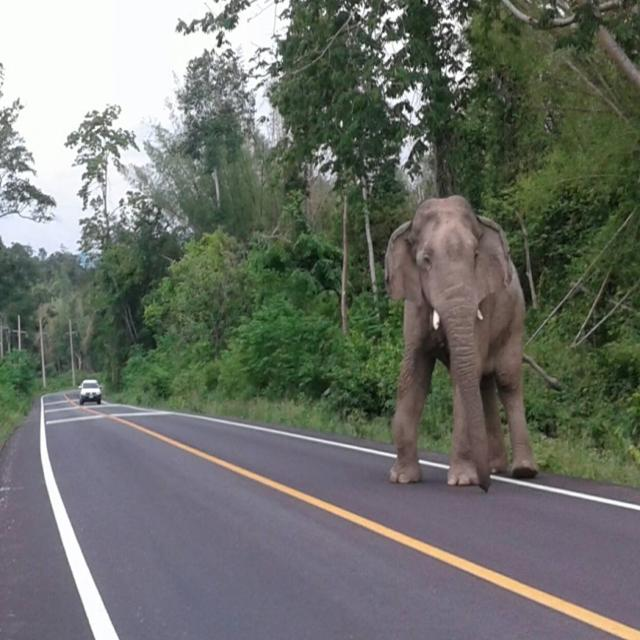Elephant: (377, 195, 545, 491)
